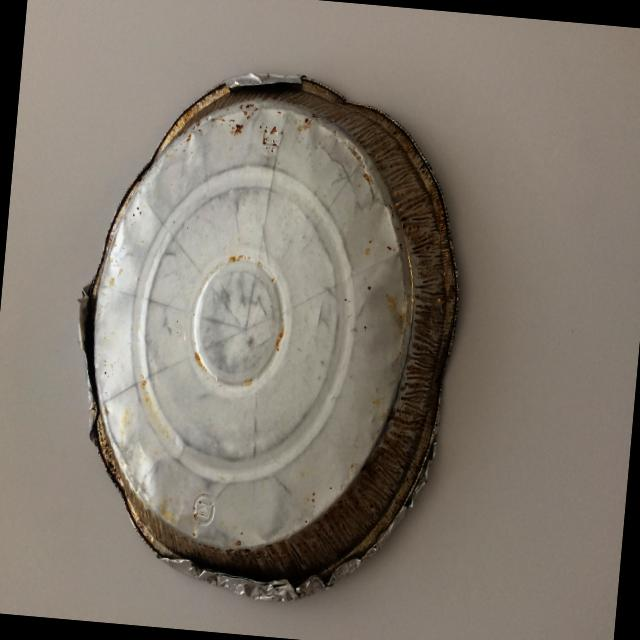Metal: (43, 48, 490, 640)
